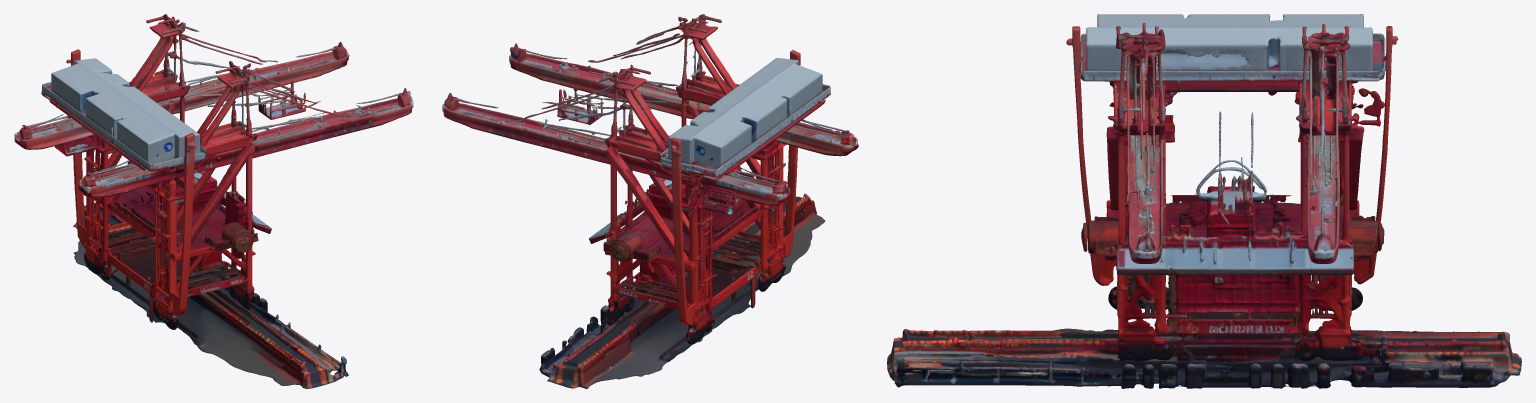
The model's file is Forklift_Container_Yard.glb.
3 views of the same model, side by side, from view 1: azimuth 30°, elevation 25°; view 2: azimuth 150°, elevation 25°; view 3: azimuth 270°, elevation 25° (orthographic). The views are drawn at different scales.
Visible parts, largest first — view 1: tripo_node_d8e08fb4-1b12-4594-be30-40d8b38934d9; view 2: tripo_node_d8e08fb4-1b12-4594-be30-40d8b38934d9; view 3: tripo_node_d8e08fb4-1b12-4594-be30-40d8b38934d9.
Part boxes in pixels (box(x1,y1,x2,y2)): tripo_node_d8e08fb4-1b12-4594-be30-40d8b38934d9: box(14, 14, 413, 388); tripo_node_d8e08fb4-1b12-4594-be30-40d8b38934d9: box(442, 14, 858, 388); tripo_node_d8e08fb4-1b12-4594-be30-40d8b38934d9: box(887, 14, 1521, 388).
Bounding box in the file's own units: 0.8259 × 0.6053 × 1.
Materials: 1 (1 with a texture image).
